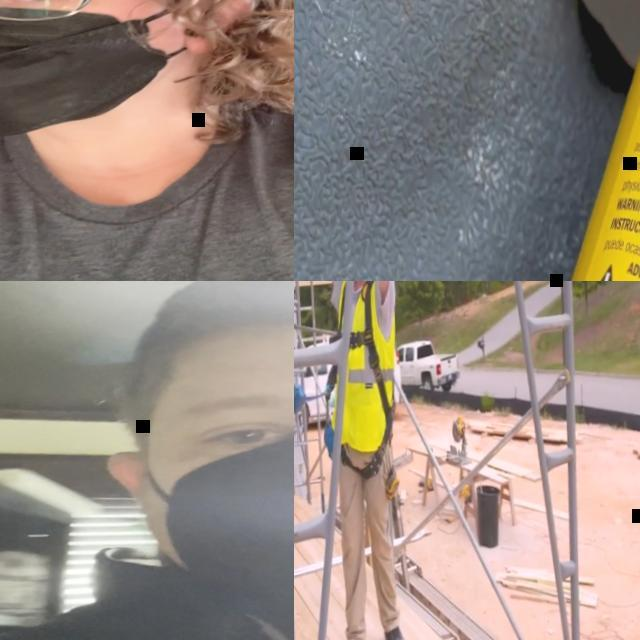vest: (325, 281, 403, 455)
